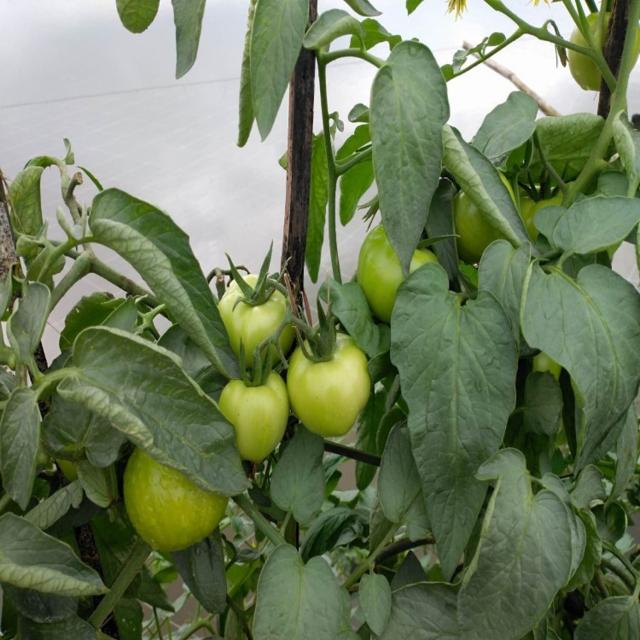tomato: (124, 444, 235, 547), (291, 332, 375, 435), (228, 371, 309, 469), (220, 263, 295, 361), (360, 228, 438, 321), (566, 7, 638, 90), (451, 185, 489, 255), (519, 179, 574, 227)
